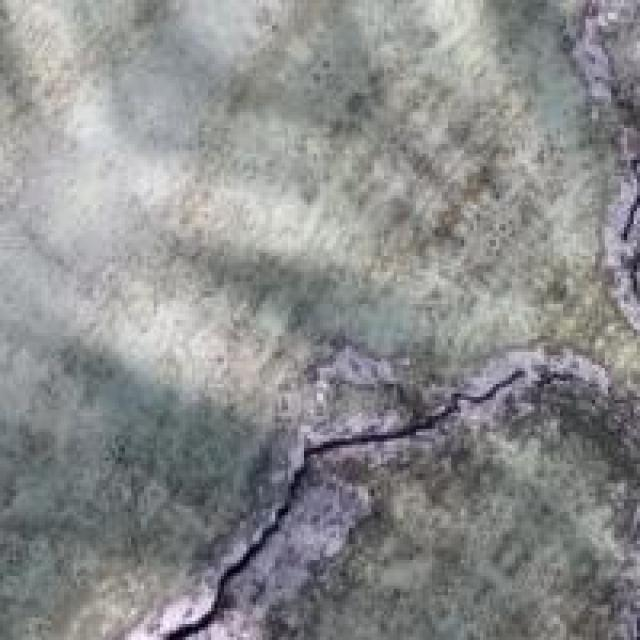Crack: (45, 310, 573, 640)
